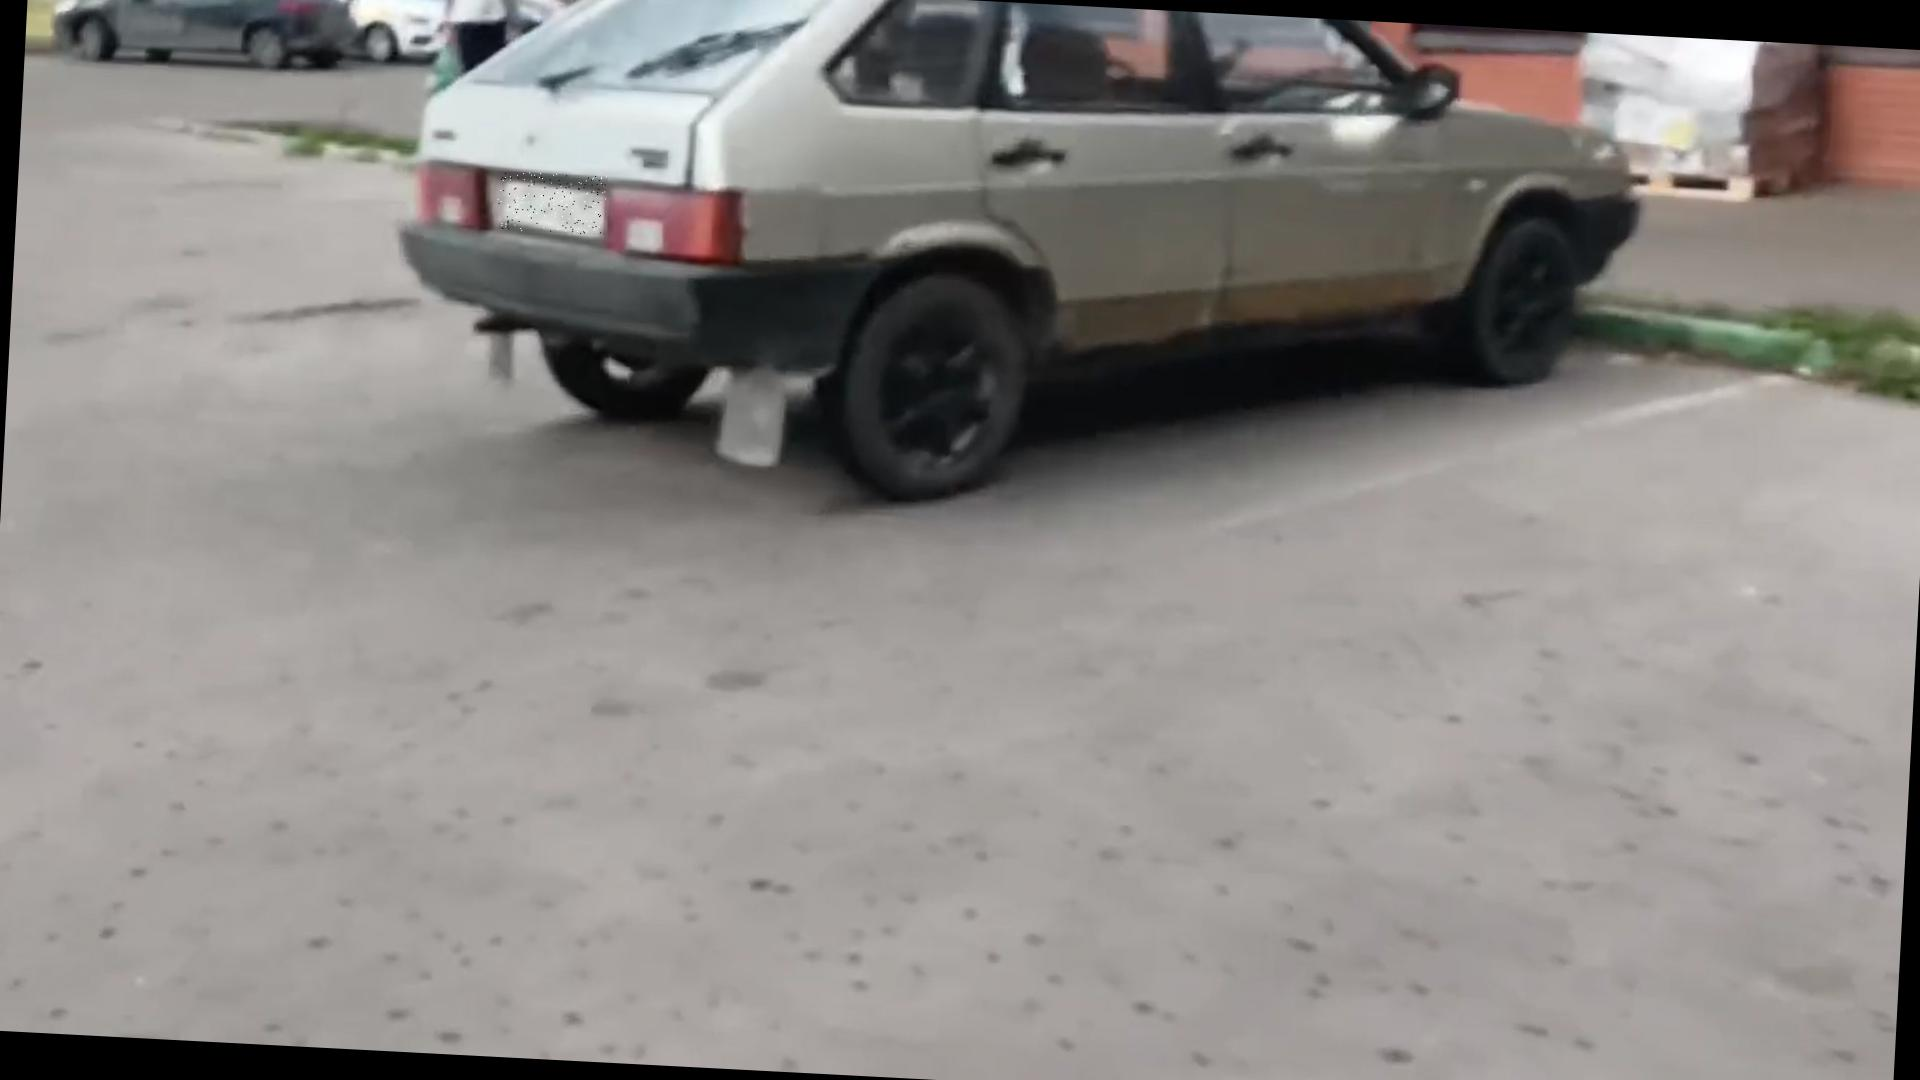plate: (498, 172, 610, 237)
